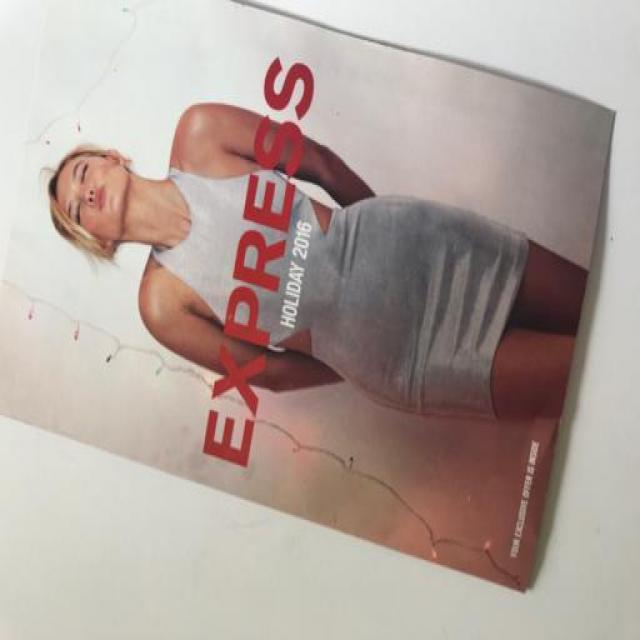paper: (2, 4, 612, 584)
